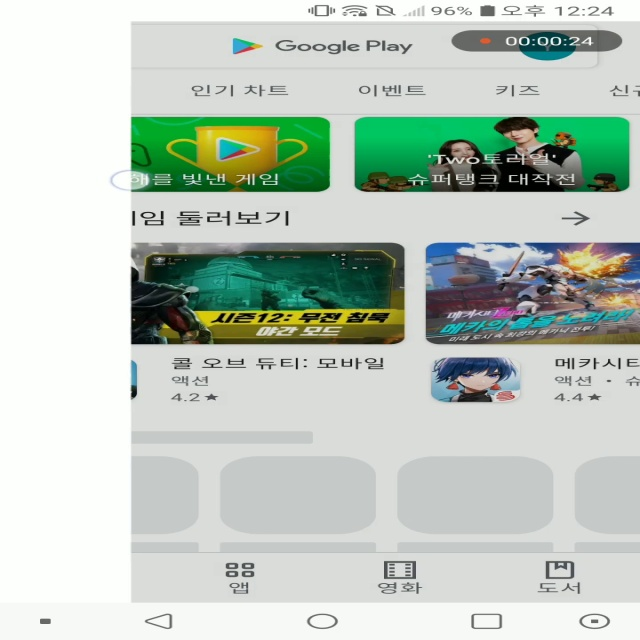Cursor: (108, 170, 152, 192)
